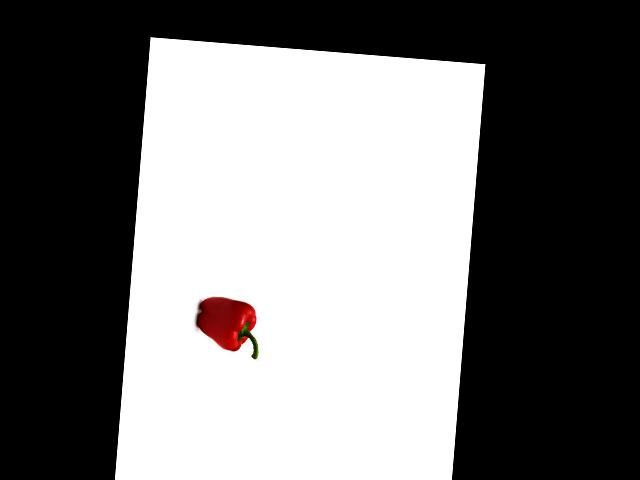bell_pepper: (189, 292, 266, 361)
